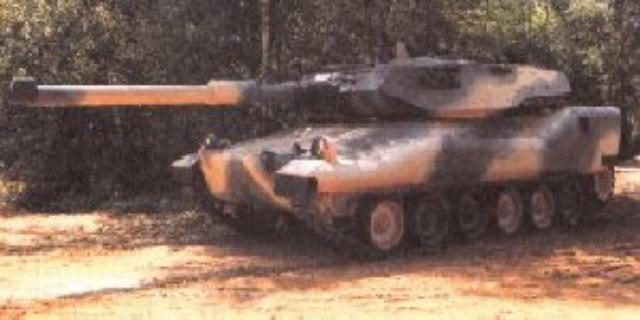tank: (190, 61, 626, 238)
